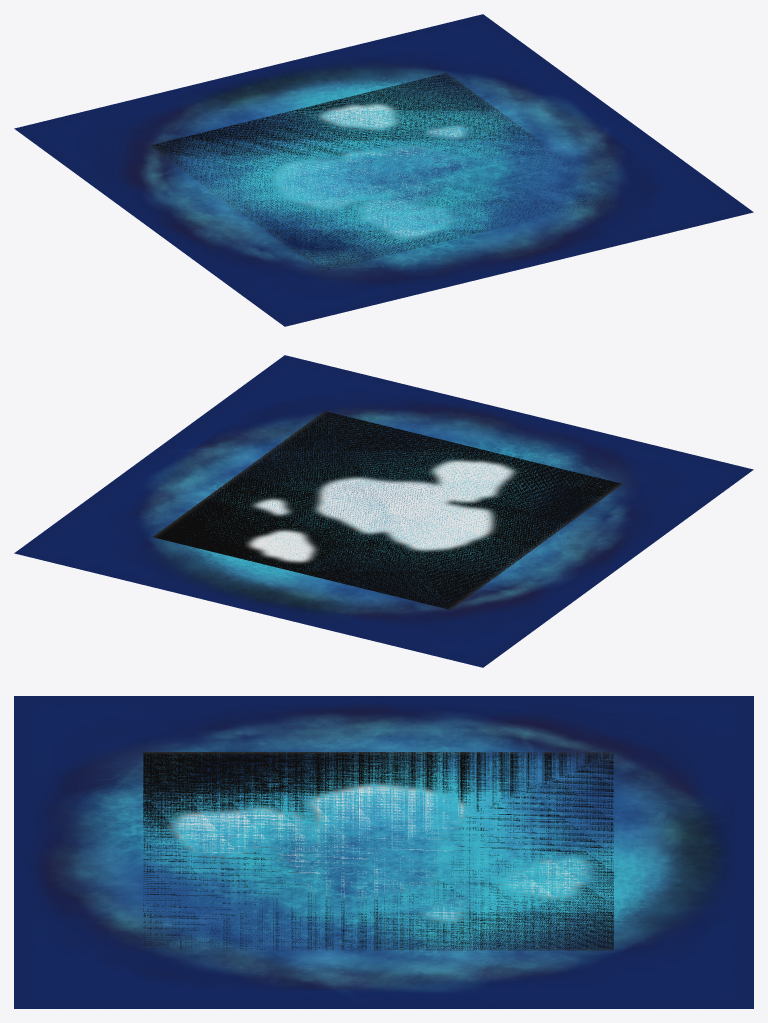
Rendered from pir_m_are_isl_cutthroat_ocean.fbx.
3 views of the same model, one above another, from view 1: azimuth 30°, elevation 25°; view 2: azimuth 150°, elevation 25°; view 3: azimuth 270°, elevation 25° (orthographic). The views are drawn at different scales.
Parts seen in each view (by area): view 1: water_color, water_alpha; view 2: water_color, water_alpha; view 3: water_color, water_alpha.
Part boxes in pixels (box(x1,y1,x2,y2)): water_color: box(14, 14, 753, 326); water_alpha: box(149, 73, 612, 270); water_color: box(14, 355, 753, 667); water_alpha: box(152, 411, 622, 609); water_color: box(14, 696, 753, 1008); water_alpha: box(143, 752, 613, 950).
Size of what is drawn, in the model's own units: 379553 by 0.0618 by 379552.
Materials: 2 (2 with a texture image).
